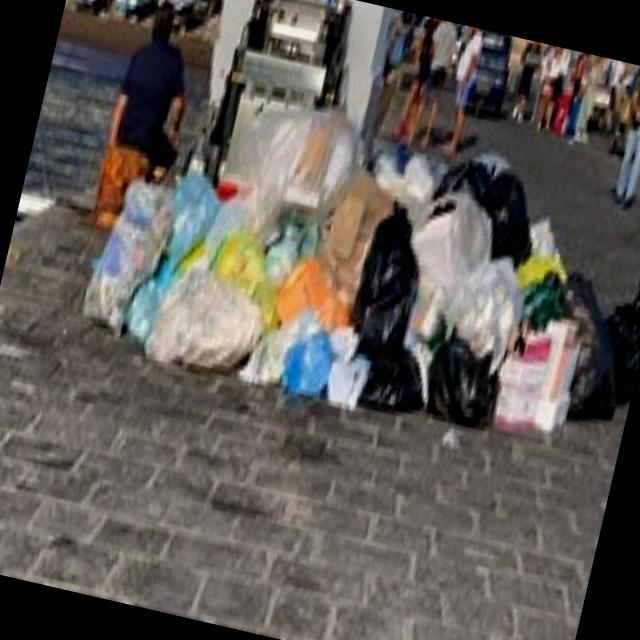garbage: (75, 87, 640, 483)
